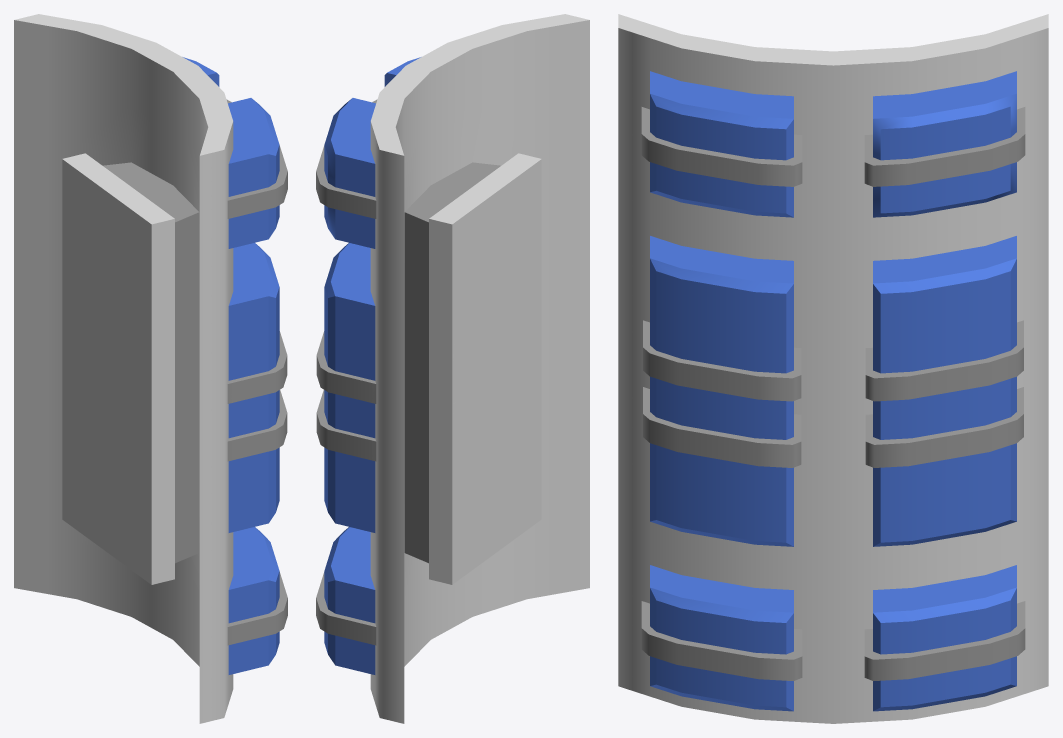
The model's file is FoodStorage.fbx.
The picture shows the model from 3 angles, left to right: view 1: azimuth 30°, elevation 25°; view 2: azimuth 150°, elevation 25°; view 3: azimuth 270°, elevation 25°; orthographic projection. The views are drawn at different scales.
Visible parts, largest first — view 1: StorageRack, FoodCrates, SliverStraps; view 2: StorageRack, FoodCrates, SliverStraps; view 3: StorageRack, FoodCrates, SliverStraps.
Boxes of the visible parts, <box> form: StorageRack: <box>14,14,233,723</box>; FoodCrates: <box>183,57,279,674</box>; SliverStraps: <box>103,99,287,645</box>; StorageRack: <box>370,14,589,723</box>; FoodCrates: <box>324,57,420,674</box>; SliverStraps: <box>316,99,500,645</box>; StorageRack: <box>618,14,1048,723</box>; FoodCrates: <box>650,71,1016,711</box>; SliverStraps: <box>641,107,1025,680</box>.
Size of the model in its own units: 62.5 by 239 by 141.
